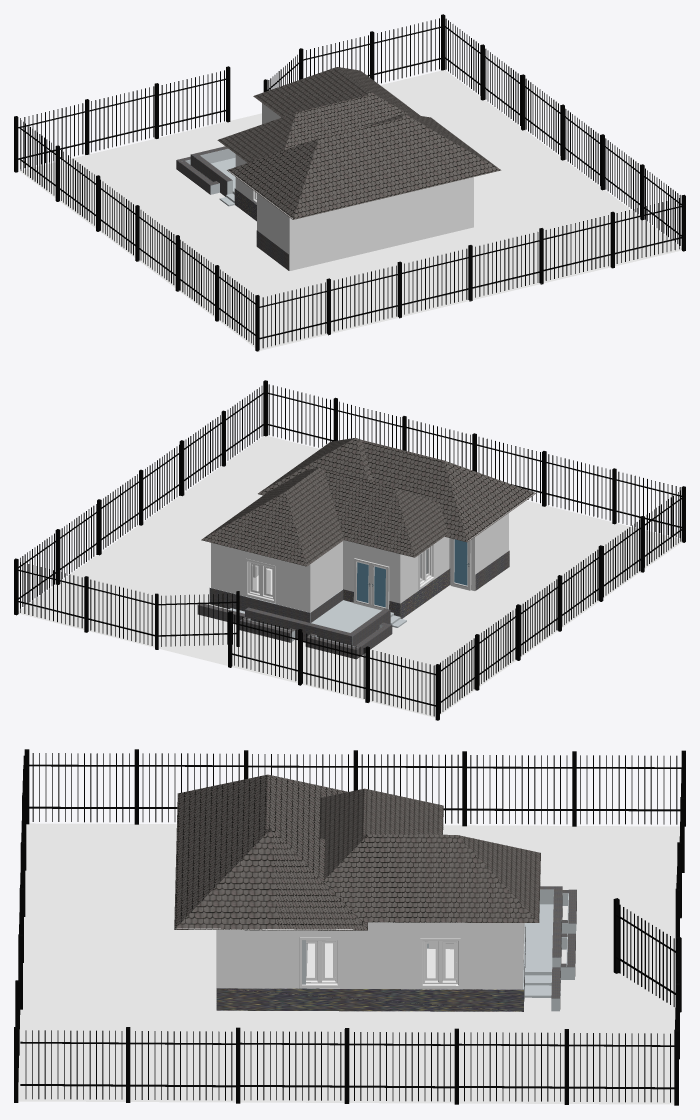
Rendered from rumah-singgah-optimized.glb.
The picture shows the model from 3 angles, top to bottom: view 1: azimuth 30°, elevation 25°; view 2: azimuth 150°, elevation 25°; view 3: azimuth 270°, elevation 25°; orthographic projection. The views are drawn at different scales.
Visible parts, largest first — view 1: Plane, Material3.023, Cube.008, Material3.025, default__0.002, default__0.003, default__0.004, default__0, default__0.008, default__0.010, default__0.006, default__0.009 (+7 smaller); view 2: Plane, Material3.025, Material3.023, default__0.001, default__0, default__0.004, default__0.009, default__0.005, default__0.008, default__0.010, default__0.006, default__0.007 (+21 smaller); view 3: Plane, Material3.023, Material3.025, Material3.012, Cube.033, default__0.005, Cube.034, default__0.006, default__0.008, default__0.007, Cube.011, default__0.010 (+12 smaller).
Part boxes in pixels (x1=…): Plane: x1=19, y1=70, x2=681, y2=350; Material3.023: x1=227, y1=113, x2=501, y2=219; Cube.008: x1=295, y1=177, x2=473, y2=269; Material3.025: x1=217, y1=67, x2=420, y2=162; default__0.002: x1=543, y1=194, x2=685, y2=280; default__0.003: x1=402, y1=228, x2=543, y2=314; default__0.004: x1=259, y1=261, x2=401, y2=348; default__0: x1=14, y1=86, x2=156, y2=172; default__0.008: x1=19, y1=120, x2=100, y2=231; default__0.010: x1=178, y1=239, x2=259, y2=351; default__0.006: x1=521, y1=74, x2=600, y2=185; default__0.009: x1=99, y1=179, x2=179, y2=291; Plane: x1=18, y1=436, x2=682, y2=717; Material3.025: x1=201, y1=468, x2=448, y2=566; Material3.023: x1=258, y1=437, x2=536, y2=542; default__0.001: x1=14, y1=559, x2=154, y2=645; default__0: x1=301, y1=632, x2=439, y2=720; default__0.004: x1=542, y1=451, x2=681, y2=537; default__0.009: x1=520, y1=545, x2=603, y2=655; default__0.005: x1=179, y1=386, x2=263, y2=496; default__0.008: x1=440, y1=604, x2=520, y2=713; default__0.010: x1=603, y1=486, x2=685, y2=597; default__0.006: x1=97, y1=444, x2=180, y2=555; default__0.007: x1=14, y1=504, x2=98, y2=608; Plane: x1=18, y1=823, x2=679, y2=1104; Material3.023: x1=174, y1=774, x2=367, y2=930; Material3.025: x1=319, y1=788, x2=540, y2=922; Material3.012: x1=216, y1=988, x2=523, y2=1011; Cube.033: x1=340, y1=922, x2=420, y2=989; default__0.005: x1=20, y1=1027, x2=240, y2=1103; Cube.034: x1=216, y1=930, x2=299, y2=988; default__0.006: x1=240, y1=1028, x2=458, y2=1104; default__0.008: x1=462, y1=751, x2=681, y2=826; default__0.007: x1=459, y1=1029, x2=678, y2=1105; Cube.011: x1=460, y1=922, x2=522, y2=989; default__0.010: x1=24, y1=749, x2=243, y2=824.
Bounding box in the file's own units: 9.35 × 2.35 × 9.4.
Materials: 81 (28 with a texture image).
